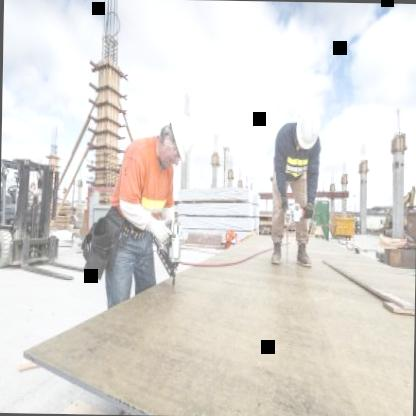helmet: (150, 109, 197, 172), (292, 100, 323, 154)
